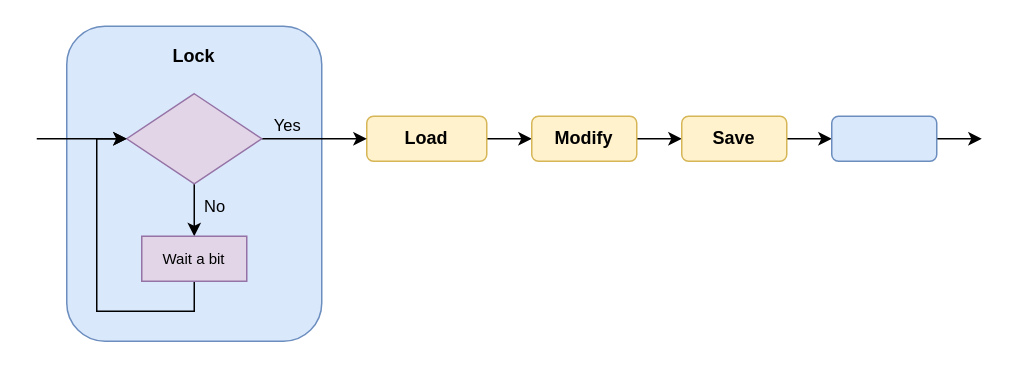
This 1020x368 diagram has some shape labels left out. Each missing label, with the centre of its shape:
"Lock available" belongs at point 193,138.
"Release" belongs at point 883,138.
